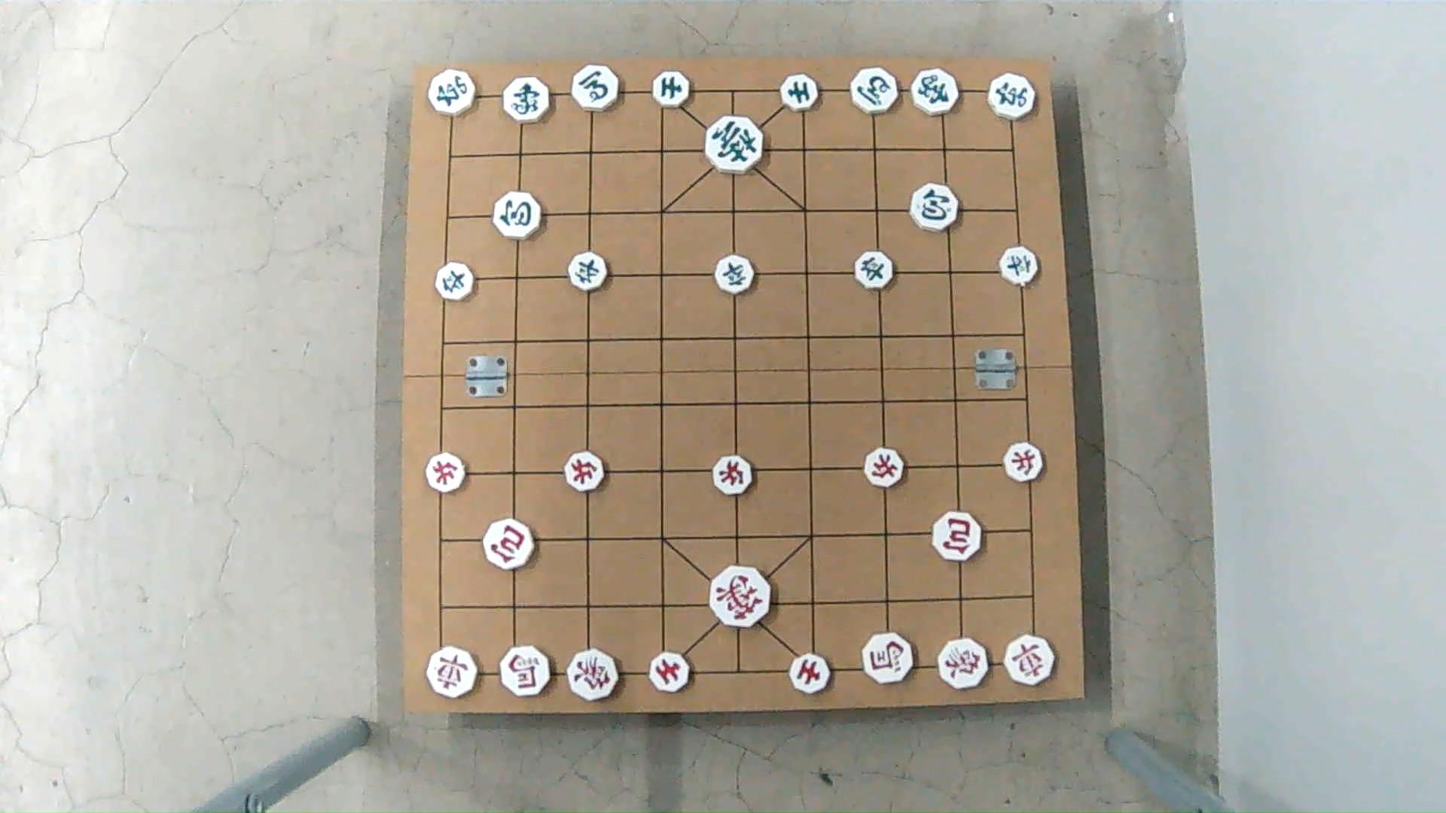cha_green: (989, 72, 1038, 120), (427, 72, 478, 114)
cha_red: (1002, 639, 1059, 686), (424, 650, 479, 698)
jol_green: (434, 263, 477, 301), (714, 258, 758, 294), (565, 254, 609, 290), (852, 253, 896, 288), (996, 248, 1039, 283)
jol_red: (863, 449, 907, 489), (710, 457, 754, 496), (562, 452, 608, 489), (1002, 445, 1046, 480), (422, 455, 466, 490)
ma_green: (570, 67, 621, 111), (849, 71, 901, 113)
ma_red: (862, 635, 917, 684), (498, 647, 552, 696)
po_green: (493, 196, 545, 239), (908, 185, 959, 228)
po_red: (932, 514, 985, 562), (483, 523, 537, 568)
sa_green: (651, 69, 692, 107), (778, 77, 819, 111)
sa_red: (648, 650, 692, 695), (787, 653, 831, 696)
sang_green: (505, 79, 556, 121), (911, 72, 962, 114)
sang_red: (566, 648, 618, 702), (937, 638, 988, 691)
wang_green: (703, 118, 767, 171)
wang_red: (708, 571, 775, 626)
